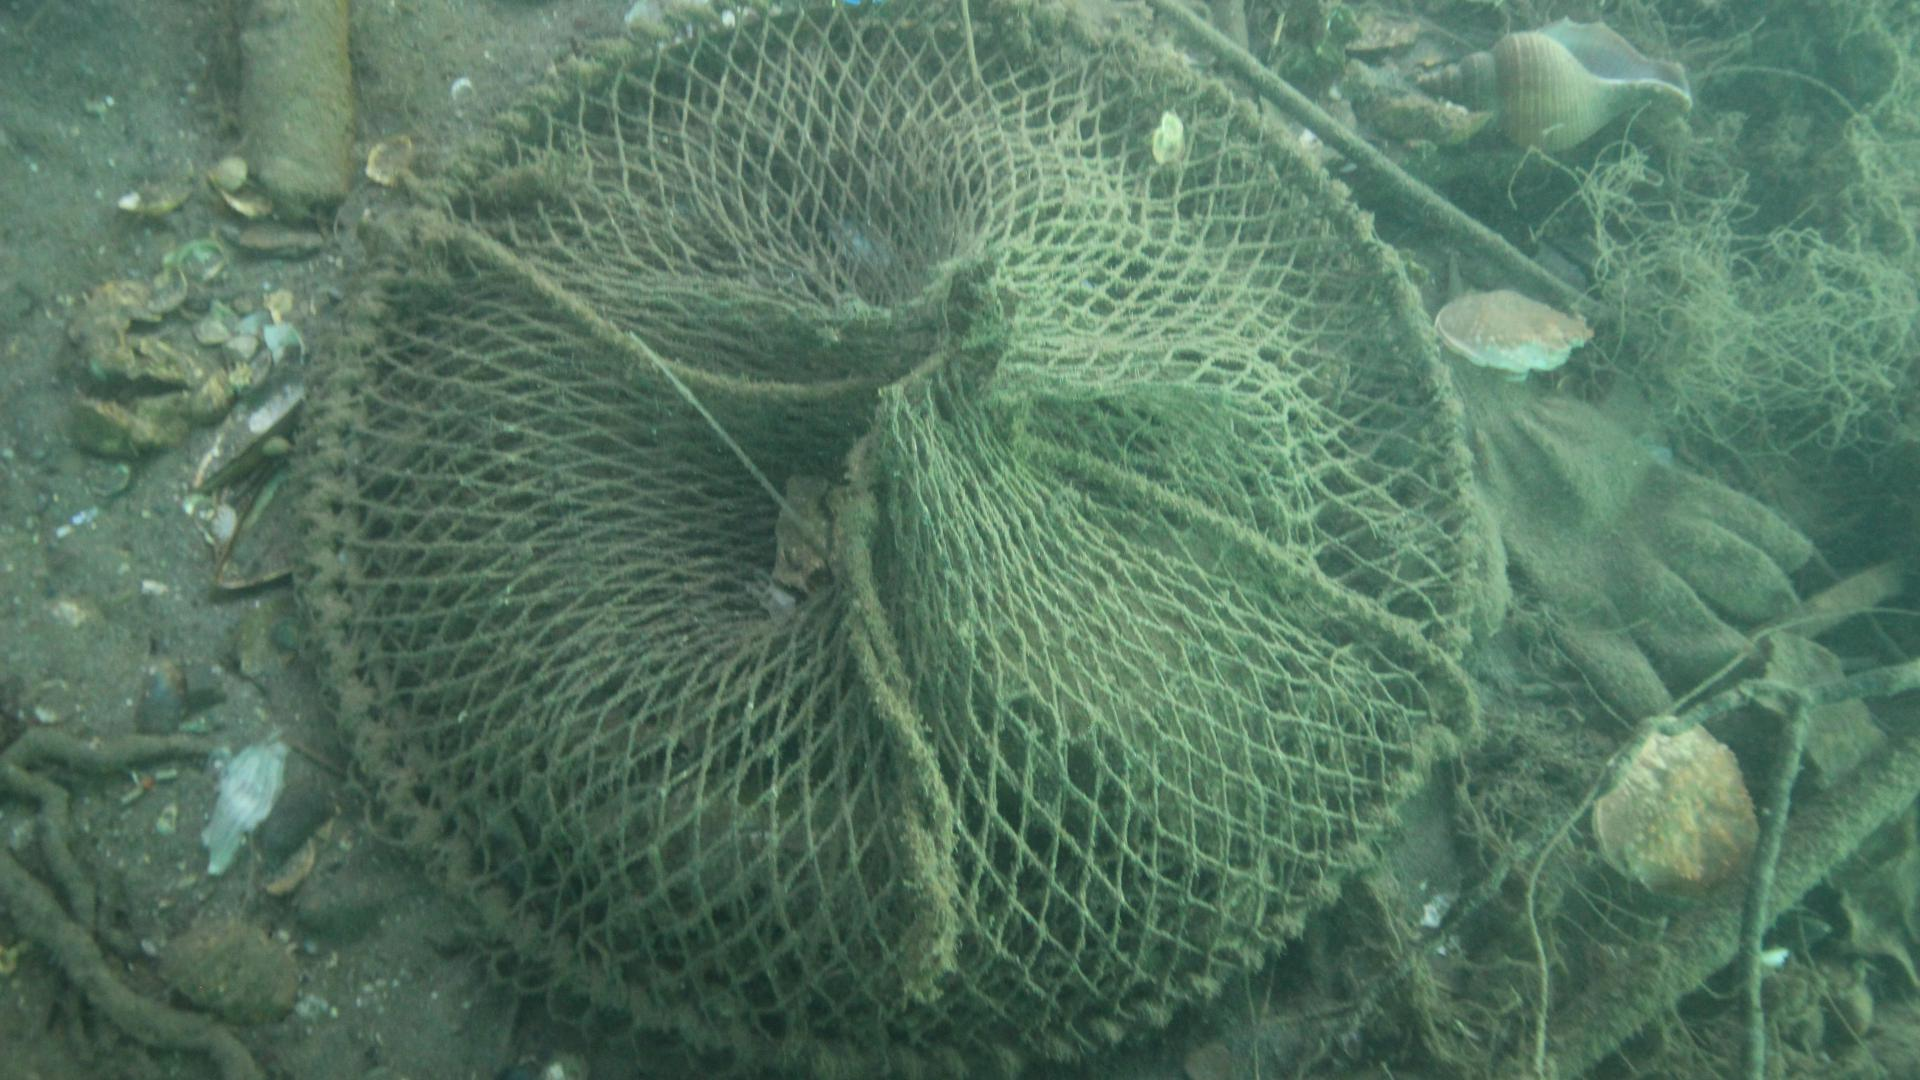circular fish trap: (285, 0, 1484, 1080)
